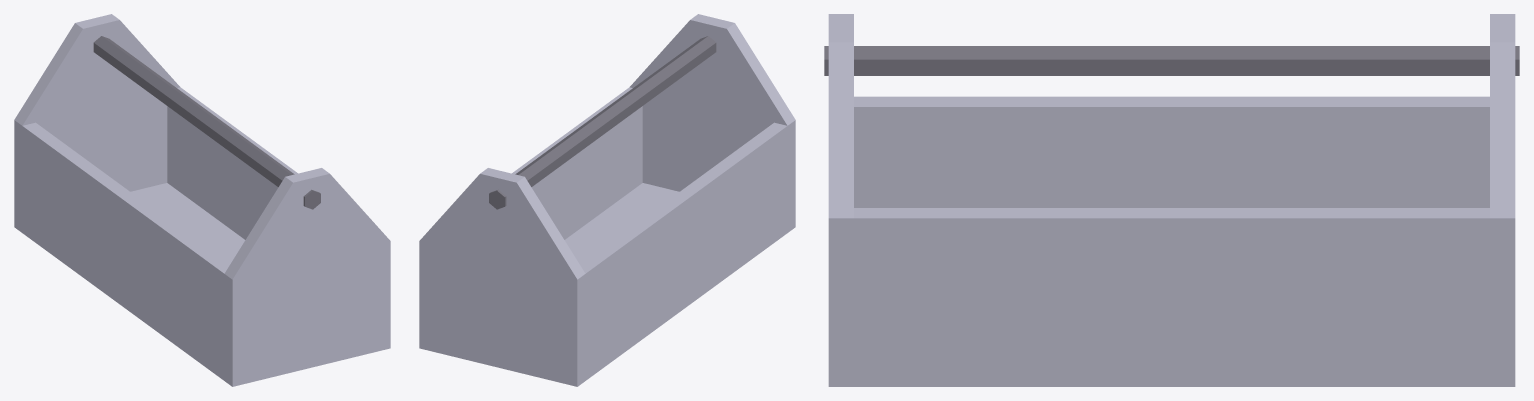
The model's file is 43c1ae1c-bab3-41a4-b4d8-e88315d430a9.glb.
The picture shows the model from 3 angles, left to right: view 1: azimuth 30°, elevation 25°; view 2: azimuth 150°, elevation 25°; view 3: azimuth 270°, elevation 25°; orthographic projection. The views are drawn at different scales.
Visible parts, largest first — view 1: Toolbox; view 2: Toolbox; view 3: Toolbox.
Boxes of the visible parts, <box> form: Toolbox: <box>14,14,390,386</box>; Toolbox: <box>419,14,795,386</box>; Toolbox: <box>824,14,1519,386</box>.
Bounding box in the file's own units: 0.2611 × 0.2988 × 0.6316.
Materials: 1 (1 with a texture image).
